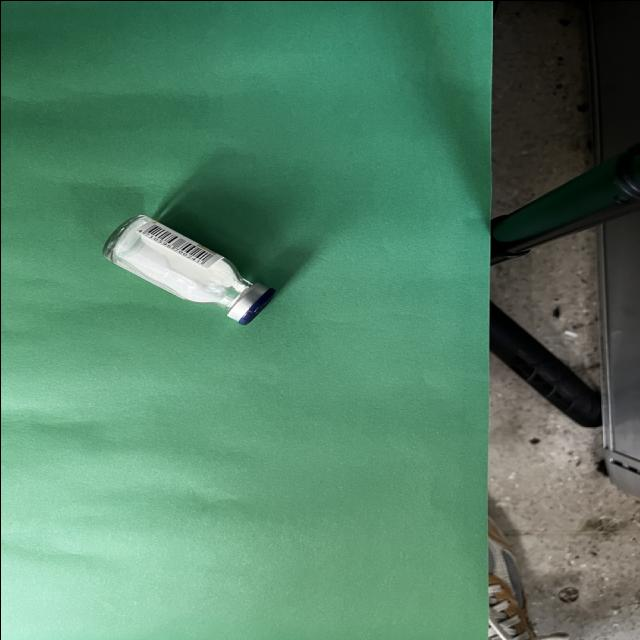Vials: (101, 212, 275, 324)
